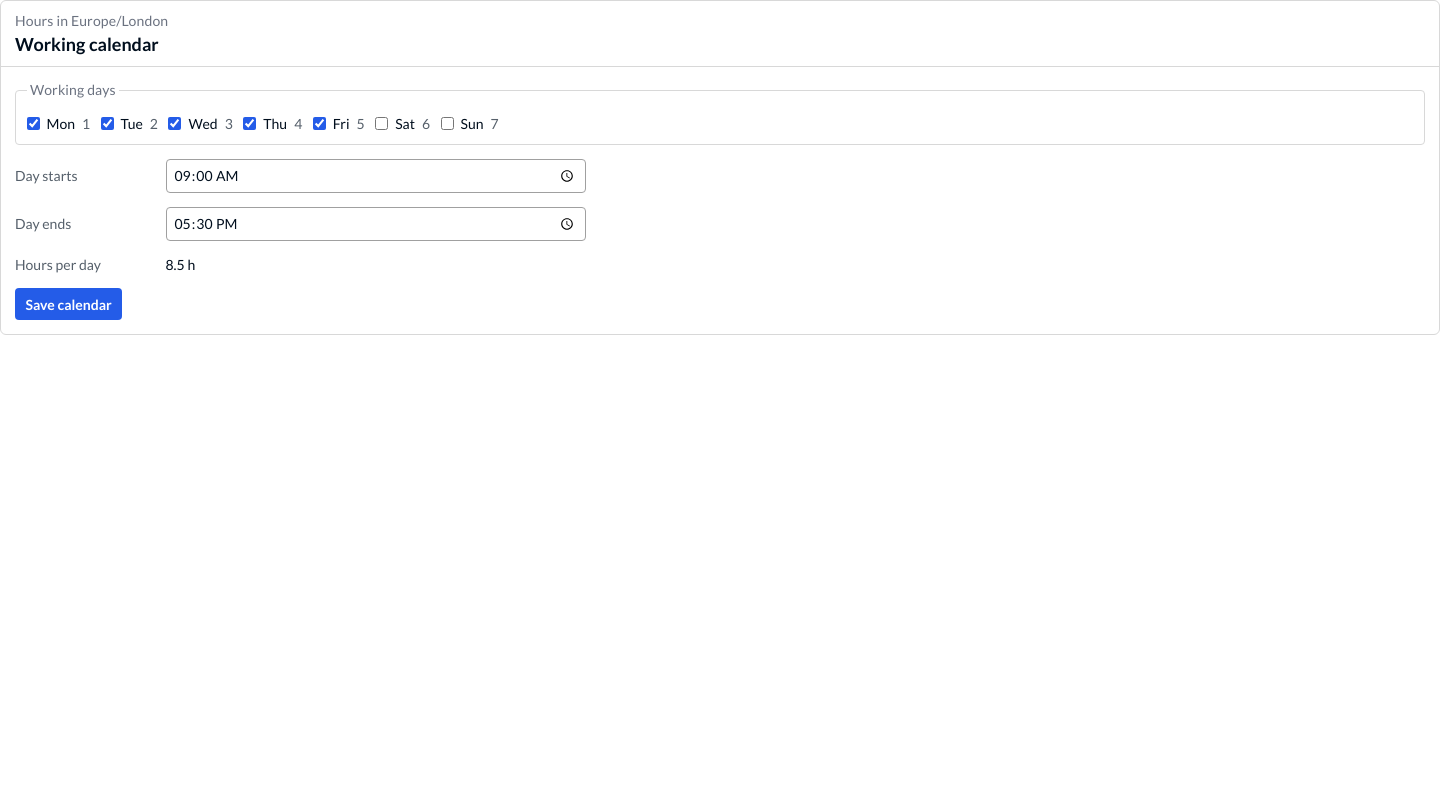
Scenario: CalendarTab › shows the API's hours per day and sends the working days as ISO numbers with the times
The width and height of the screenshot is (1440, 810).
expect the text with test id "hours-per-day" reads "8.5 h": met, box [166,256,195,273]
expect the checkbox named "Monday" is checked: met, box [26,117,40,130]
Click the checkbox named "Saturday" at (382, 124), box [375,117,388,130]
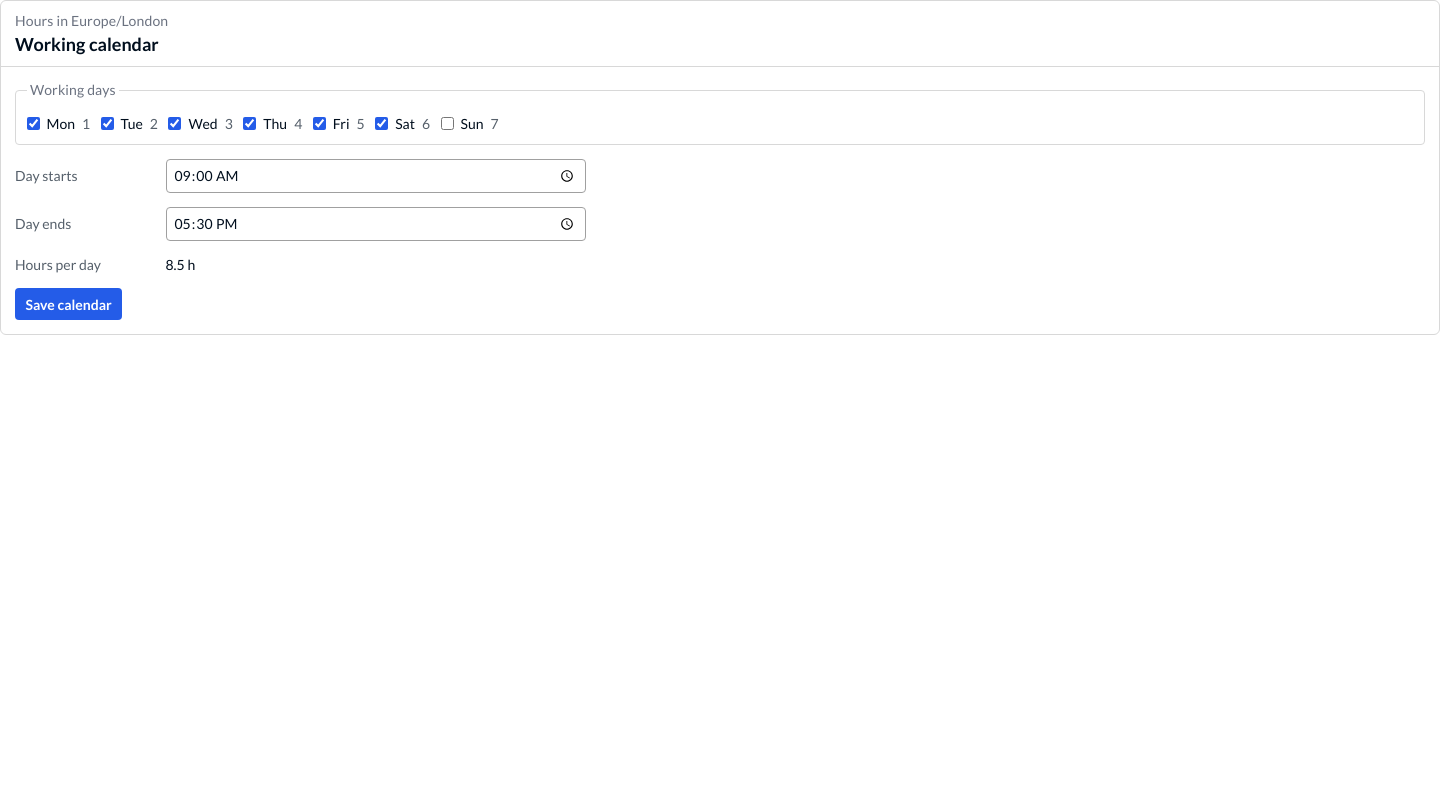
Click the checkbox named "Thursday" at (250, 124), box [243,117,256,130]
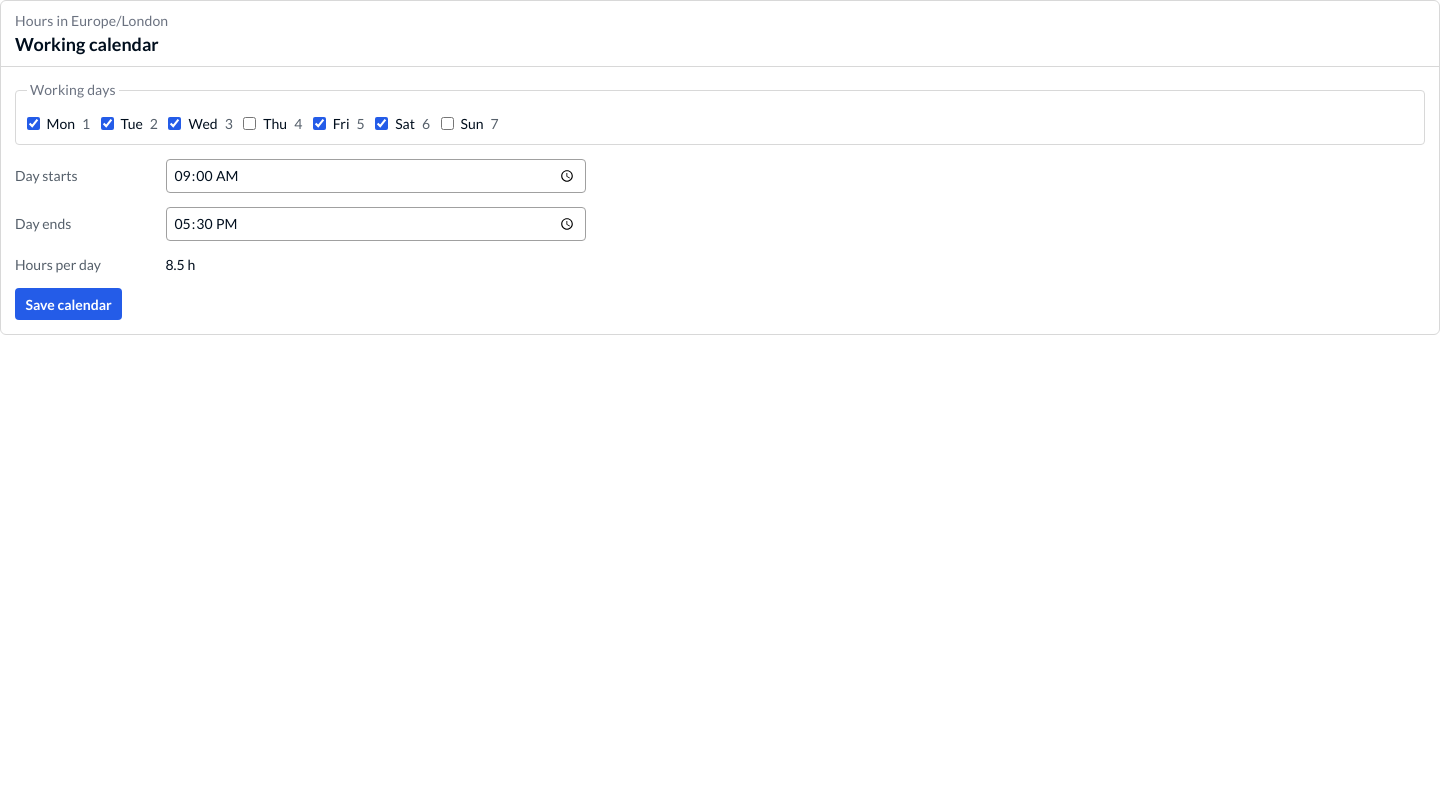
Click the checkbox named "Friday" at (319, 124), box [313,117,326,130]
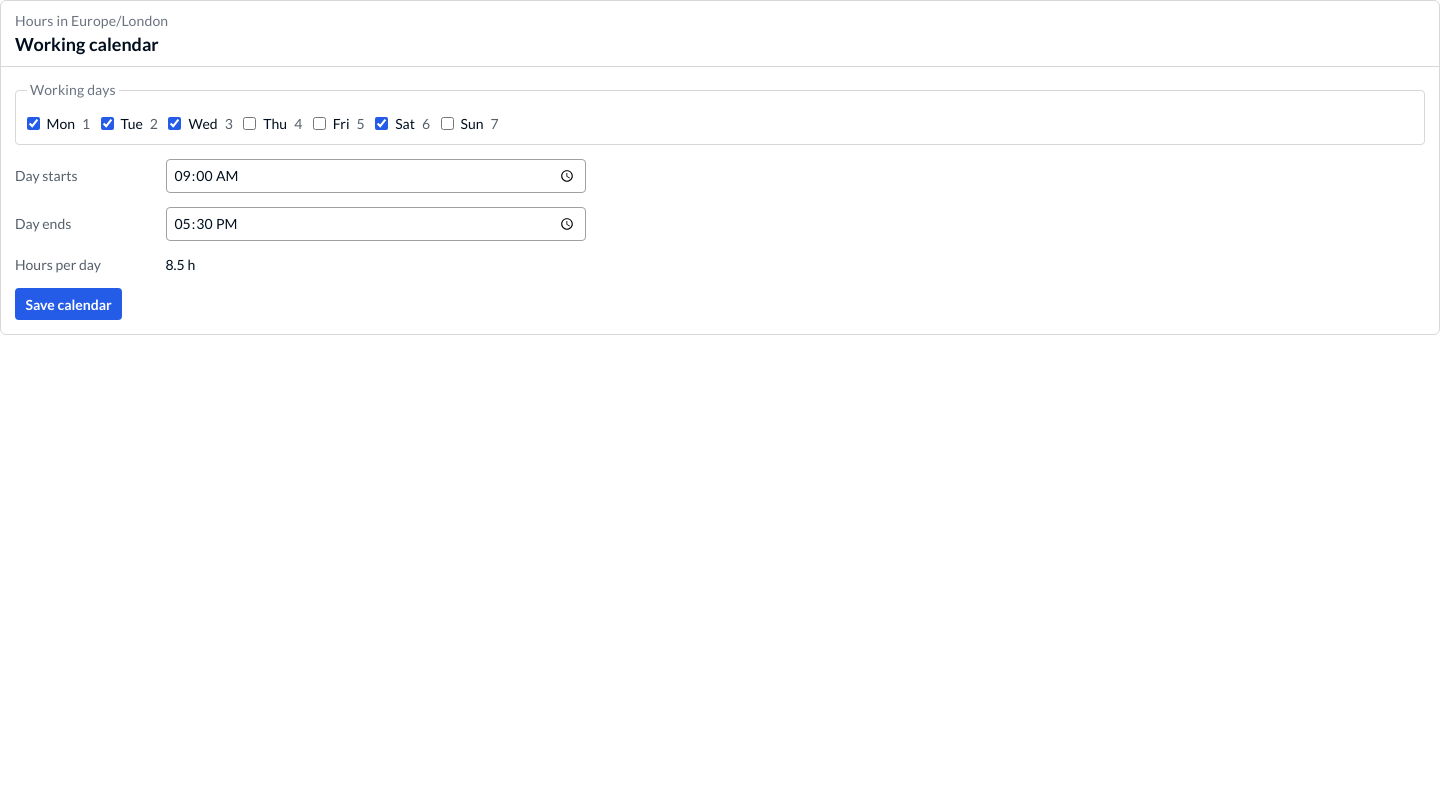
Replace the text in the time field labelled "Day starts" with "08:00" at (376, 176), box [166,159,586,193]
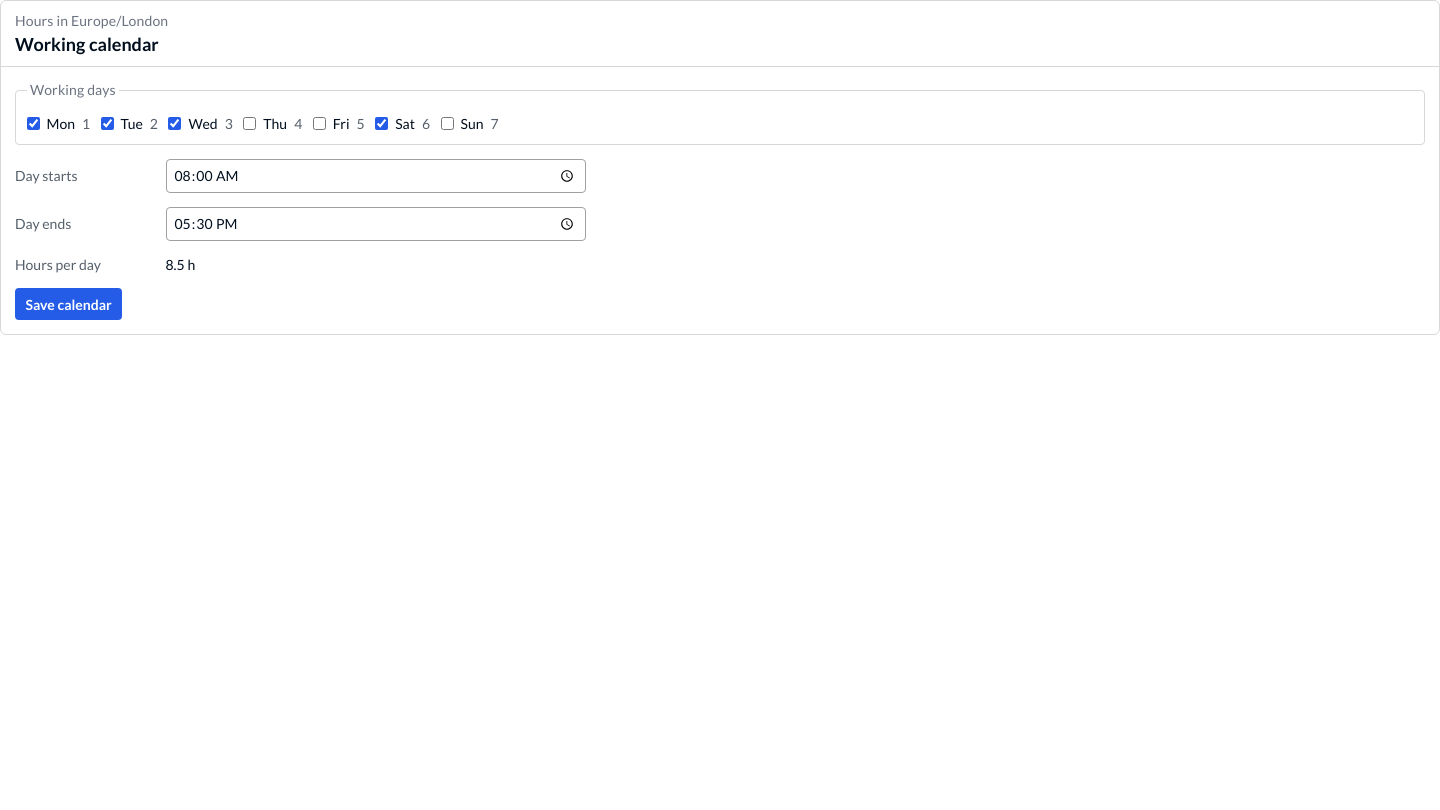
Replace the text in the time field labelled "Day ends" with "16:30" at (376, 224), box [166,207,586,241]
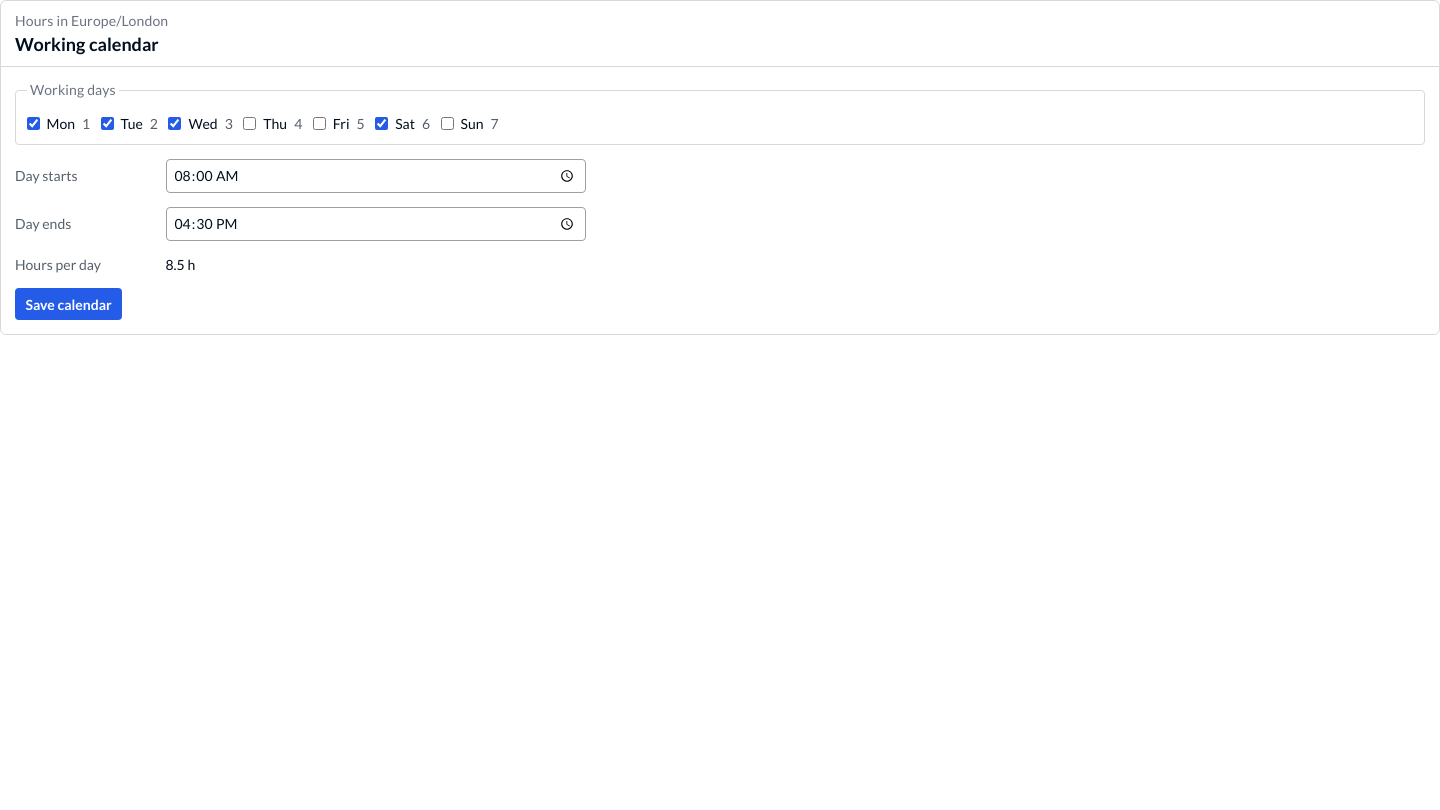
Click the button "Save calendar" at (69, 304), box [15,288,122,320]
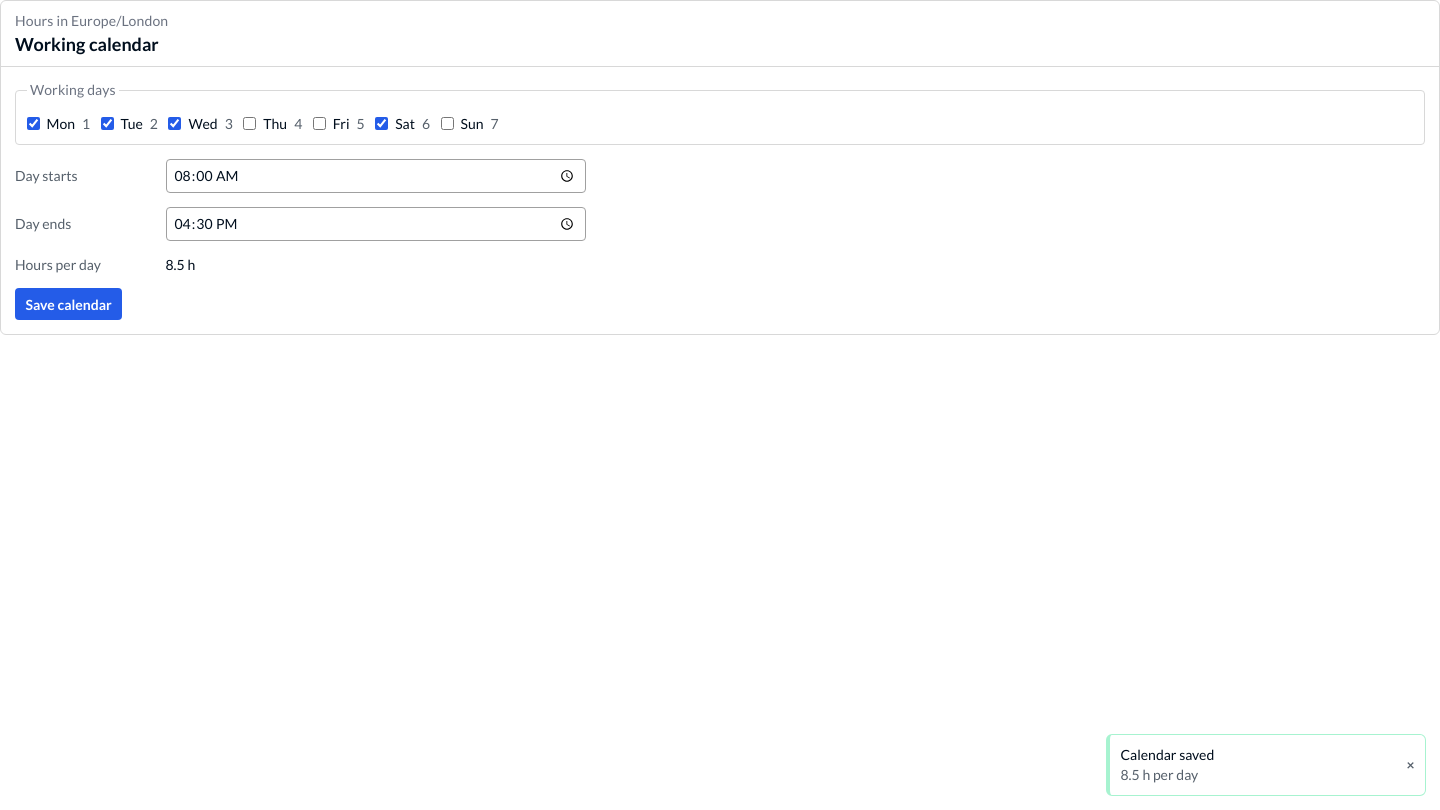
expect the text "Calendar saved" is shown: met, box [1120,745,1214,765]
